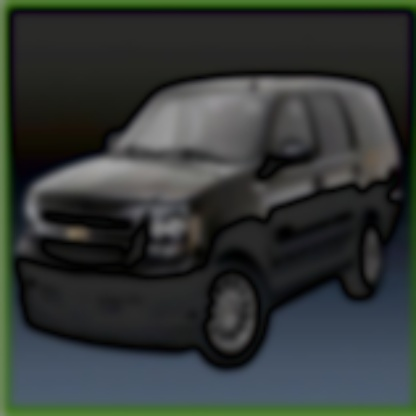Vehicle: (19, 72, 403, 369)
